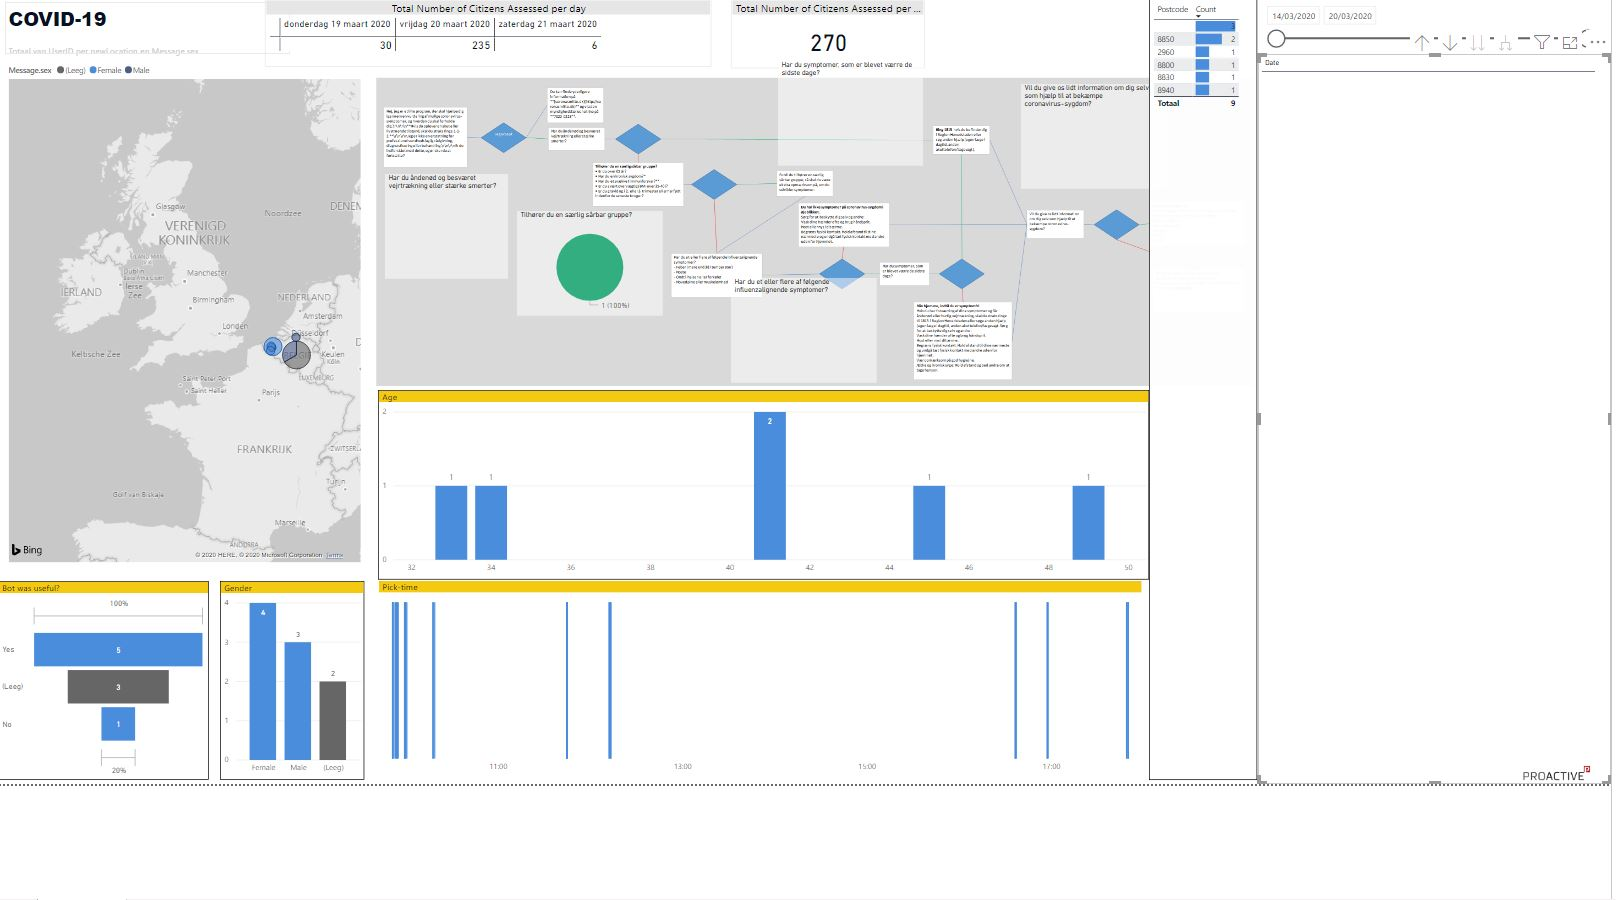

This screenshot's page, from the dashboard's own definition file:
{"tool":"powerbi","page":{"name":"COVID19","canvas":[2280,1110],"ordinal":0},"visuals":[{"type":"image","box":[527.5,106.3,1252.2,445.7],"z":0},{"type":"map","fields":{"Size":["Count(Final Answers.UserID)"],"Series":["Final Answers.Message.sex"],"Category":["Final Answers.newLocation"]},"box":[9.9,65.4,508.1,736.3],"z":1000},{"type":"clusteredColumnChart","title":"Gender","fields":{"Y":["CountNonNull(Final Answers.UserID)"],"Category":["Final Answers.Message.sex"]},"box":[314.5,822.6,203.5,281.2],"z":2000},{"type":"funnel","title":"Bot was useful?","fields":{"Category":["Final Answers.Message.botWasUseful"],"Y":["CountNonNull(Final Answers.UserID)"]},"box":[0,822.6,298.5,281.2],"z":3000},{"type":"textbox","box":[9.9,4.2,402.9,73.5],"z":5000},{"type":"pivotTable","title":"Total Number of Citizens Assessed per day","fields":{"Values":["Count(Staging Conversation_logs_2020_03_14_01_34 (3).UserID)"],"Columns":["Staging Conversation_logs_2020_03_14_01_34 (3).Date"]},"box":[377.2,0,630.6,96.4],"z":6000},{"type":"card","title":"Total Number of Citizens Assessed per day","fields":{"Values":["Count(Conversations_Log_Count.UserID)"]},"box":[1036.7,0,274,97.8],"z":7000},{"type":"pieChart","title":"Har du åndenød og besværet vejrtrækning eller stærke smerter?","fields":{"Category":["COVID19-Final.Message"],"Y":["Count(COVID19-Final.UserID)"]},"box":[547.6,246.7,173.9,148],"z":8000},{"type":"pieChart","title":"Tilhører du en særlig sårbar gruppe?","fields":{"Category":["COVID19-Final.Message"],"Y":["Count(COVID19-Final.UserID)"]},"box":[734,299.5,206.5,148.2],"z":9000},{"type":"pieChart","title":"Har du et eller flere af følgende influenzalignende symptomer?","fields":{"Category":["COVID19-Final.Message"],"Y":["Count(COVID19-Final.UserID)"]},"box":[1036.5,394.6,206.5,148.2],"z":10000},{"type":"pieChart","title":"Har du symptomer, som er blevet værre de sidste dage?","fields":{"Category":["COVID19-Final.Message"],"Y":["Count(COVID19-Final.UserID)"]},"box":[1102,87.9,205.5,148.2],"z":11000},{"type":"pieChart","title":"Vil du give os lidt information om dig selv som hjælp til at bekæmpe coronavirus-sygdom?","fields":{"Category":["COVID19-Final.Message"],"Y":["Count(COVID19-Final.UserID)"]},"box":[1445.4,120.4,206.1,147.9],"z":12000},{"type":"tableEx","fields":{"Values":["Final Answers.Message.postcode","CountNonNull(Final Answers.UserID)"]},"box":[1626.8,0,152.9,1103.8],"z":14000},{"type":"pivotTable","fields":{"Rows":["Final Answers.Date","Final Answers.Time (UTC)","Final Answers.Message.comments"]},"box":[1780.3,77.1,499.7,1032.7],"z":15000},{"type":"clusteredColumnChart","title":"Age","fields":{"Y":["Count(Final Answers.UserID)"],"Category":["Final Answers.Message.age"]},"box":[537.7,552.5,1090.3,267.6],"z":16000},{"type":"columnChart","title":"Pick-time","fields":{"Y":["Count(COVID19-Final.UserID)"],"Category":["COVID19-Final.Time - Copy"]},"box":[538.2,823.4,1077.7,280],"z":17000},{"type":"image","box":[2151.5,1076.4,104,33.4],"z":18000},{"type":"slicer","fields":{"Values":["Final Answers.Date"]},"box":[1780.3,0,489.4,77.1],"z":19000}]}

Visuals, with their boxes in screenshot pixels (x1, y1, x2, y2):
image: <box>377,83,1252,394</box>
map - Count(Final Answers.UserID) x Final Answers.Message.sex: <box>15,54,370,569</box>
"Gender" clusteredColumnChart: <box>228,583,370,780</box>
"Bot was useful?" funnel: <box>8,583,217,780</box>
textbox: <box>15,11,297,63</box>
"Total Number of Citizens Assessed per day" pivotTable: <box>272,8,713,76</box>
"Total Number of Citizens Assessed per day" card: <box>733,8,925,77</box>
"Har du åndenød og besværet vejrtrækning eller stærke smerter?" pieChart: <box>391,181,513,284</box>
"Tilhører du en særlig sårbar gruppe?" pieChart: <box>521,218,666,321</box>
"Har du et eller flere af følgende influenzalignende symptomer?" pieChart: <box>733,284,877,388</box>
"Har du symptomer, som er blevet værre de sidste dage?" pieChart: <box>779,70,922,173</box>
"Vil du give os lidt information om dig selv som hjælp til at bekæmpe coronavirus-sygdom?" pieChart: <box>1019,93,1163,196</box>
tableEx - Final Answers.Message.postcode x CountNonNull(Final Answers.UserID): <box>1146,8,1252,780</box>
pivotTable - Final Answers.Date x Final Answers.Time (UTC): <box>1253,62,1602,784</box>
"Age" clusteredColumnChart: <box>384,395,1146,582</box>
"Pick-time" columnChart: <box>385,584,1138,780</box>
image: <box>1512,761,1585,784</box>
slicer - Final Answers.Date: <box>1253,8,1595,62</box>
